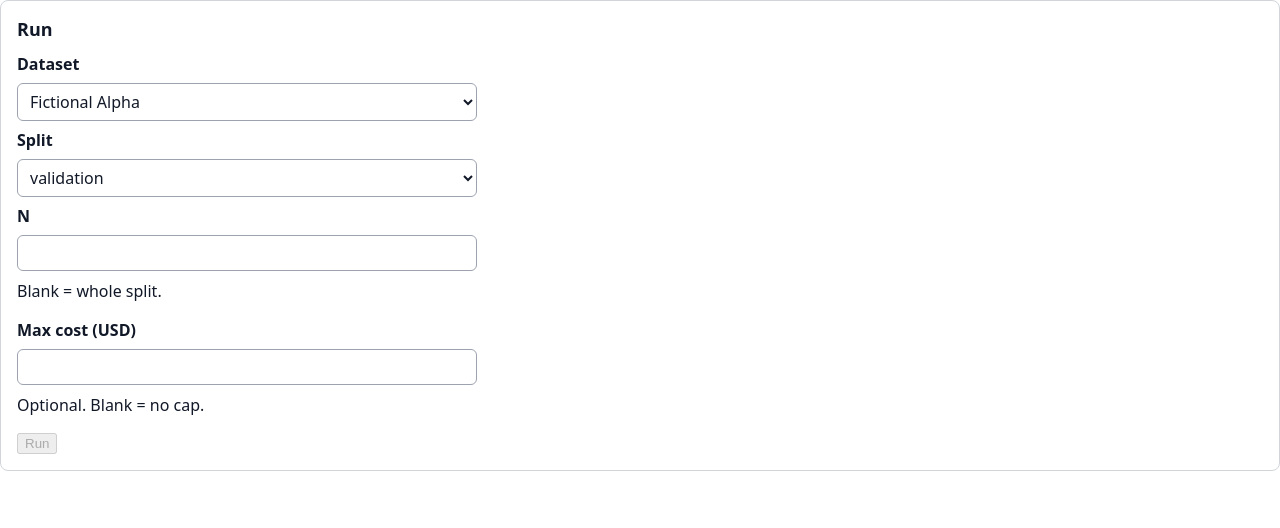
Scenario: RunPanel form › rejects N=-1
The image size is (1280, 528).
Type "-1" into the field labelled "N".
click(247, 253); type("-1")  # box [17,235,477,271]
Wait 400 ms
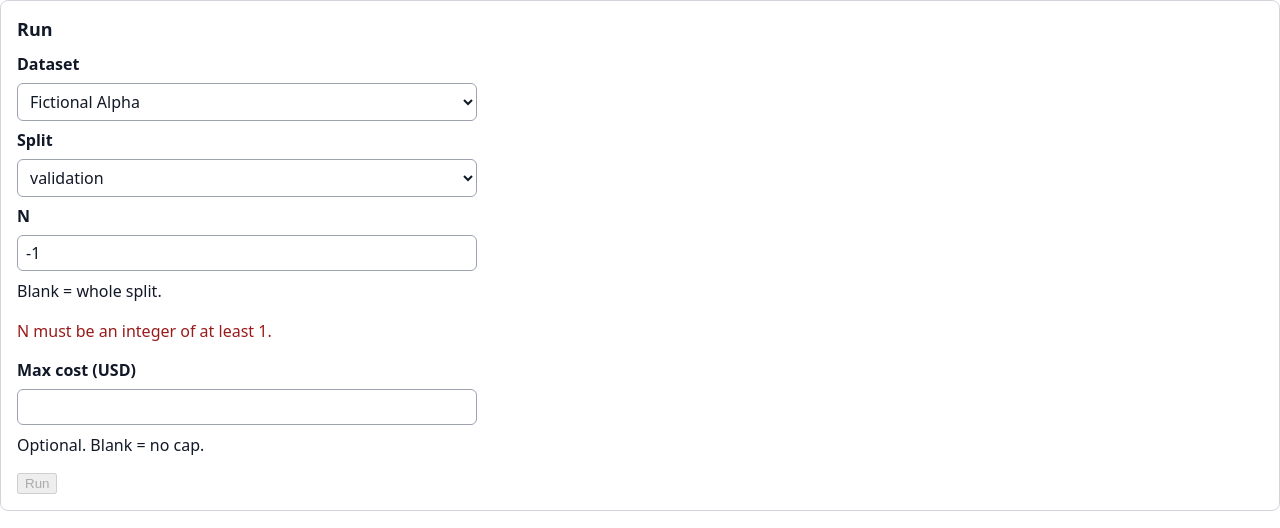
expect the button "Run" is disabled: met, box [17,473,58,494]
expect the text "N must be an integer of at least 1." is shown: met, box [17,320,272,342]
